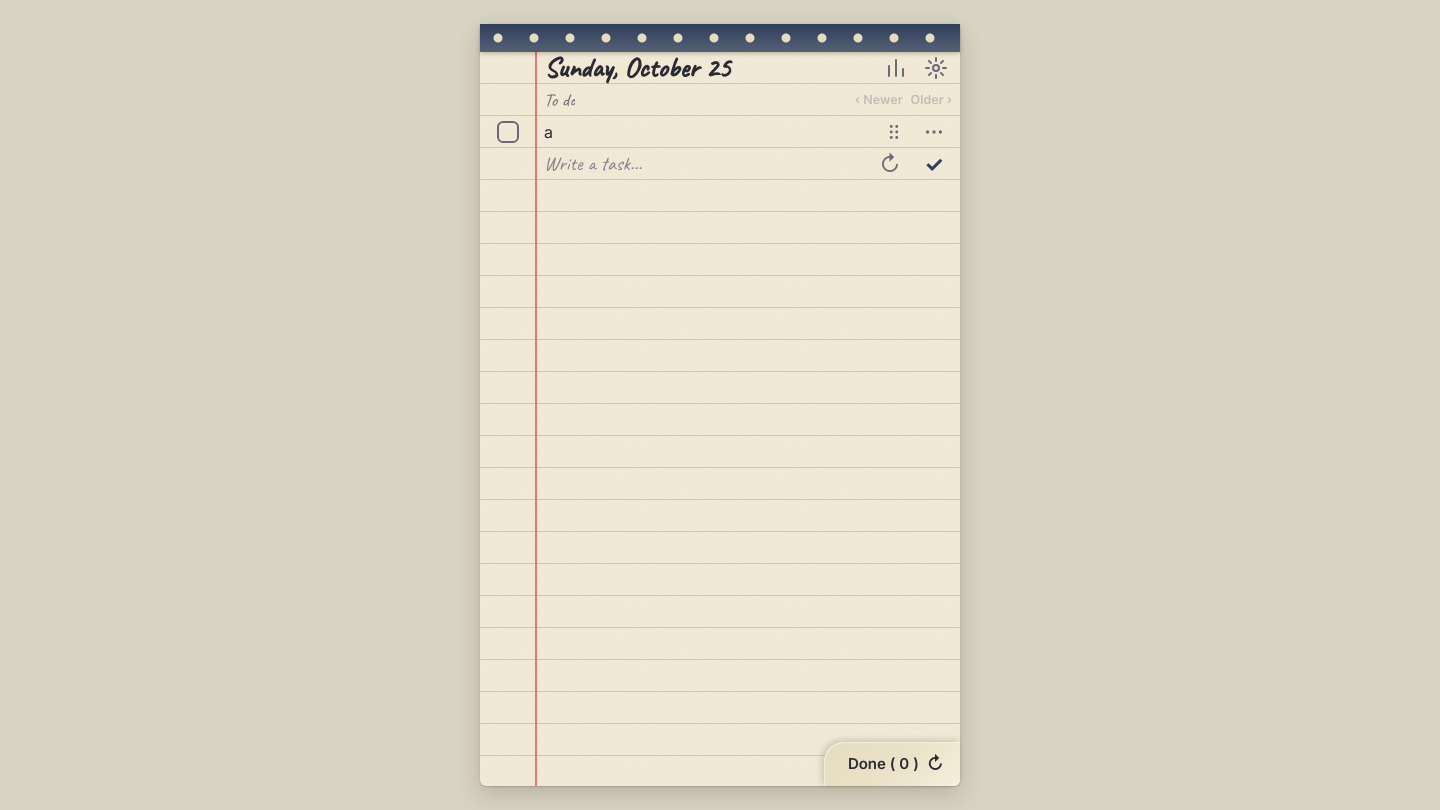
Test: the task menu › closes on Escape and returns focus to the button that opened it
Click the button named "Actions for: a" at (934, 132), box [912,110,956,154]
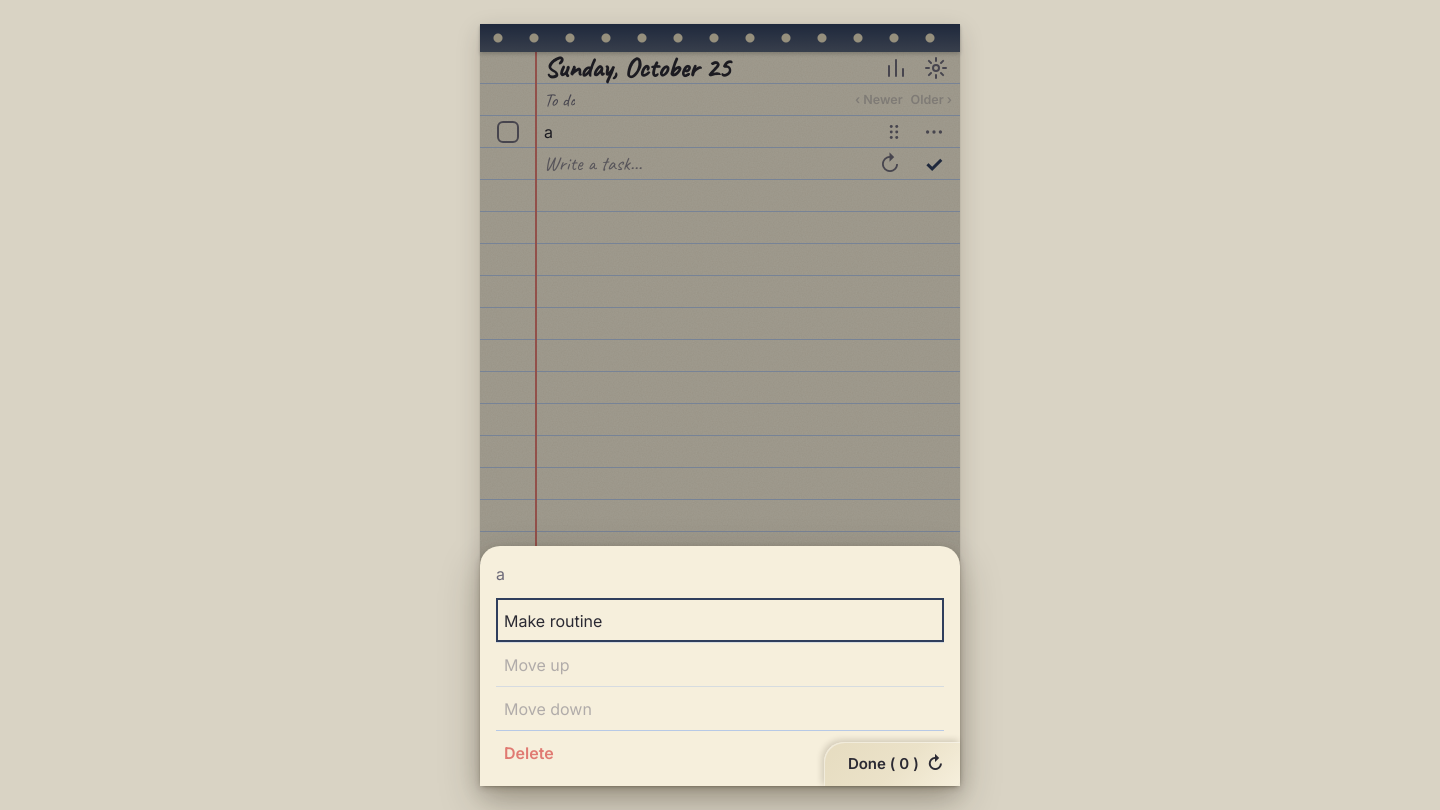
Press Escape in the dialog named "Task actions", box [480,546,960,786]
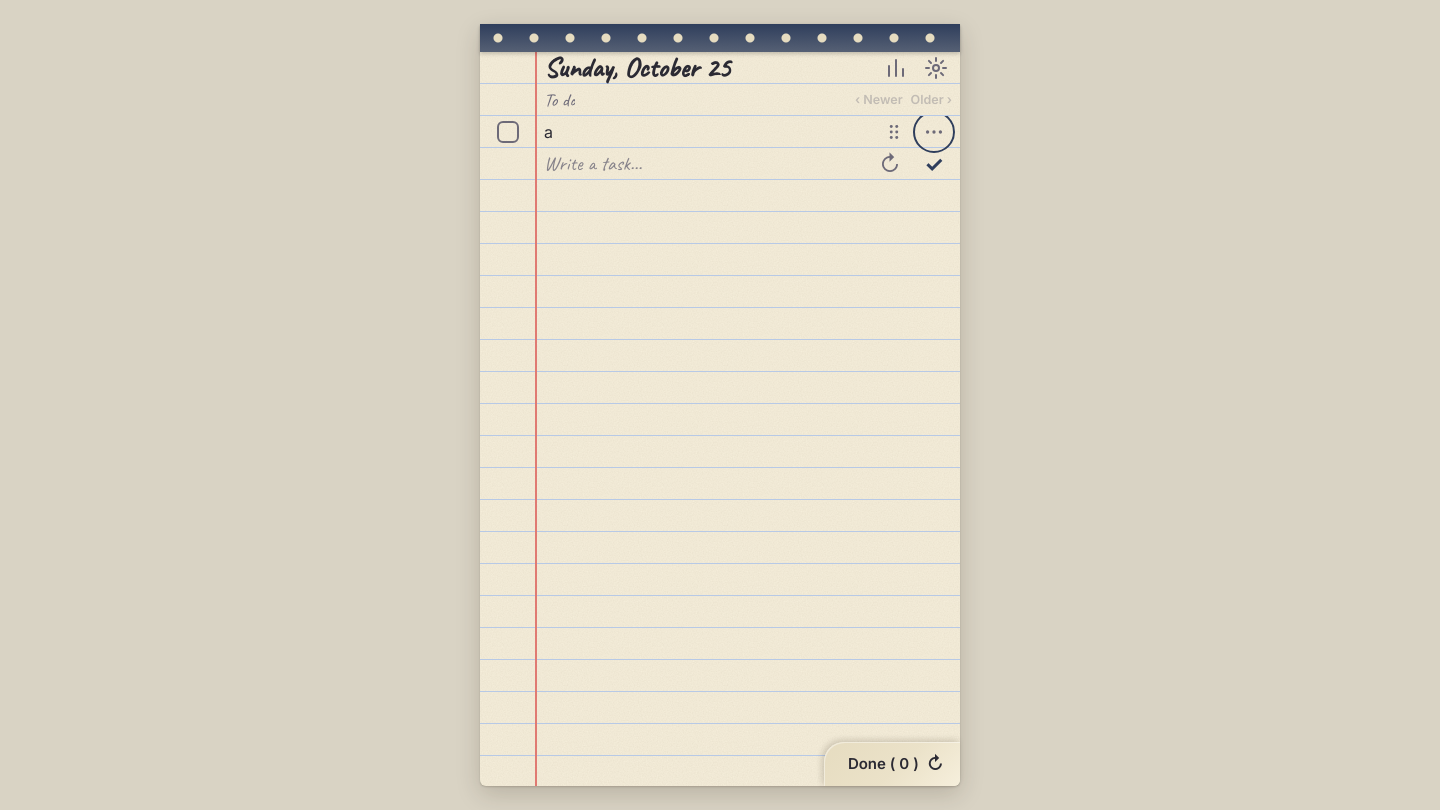
Expected: the dialog is gone
